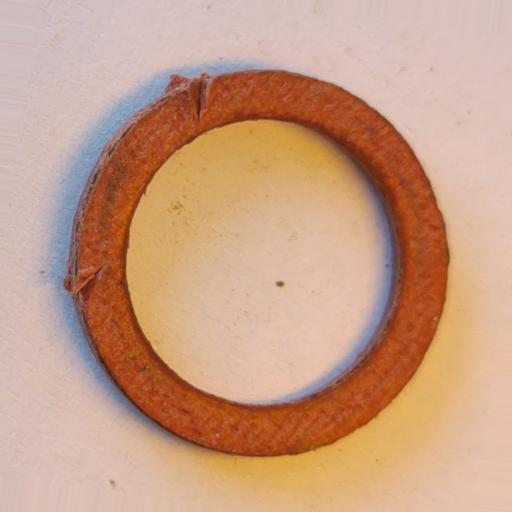defect: (72, 263, 104, 307), (186, 75, 209, 122)
